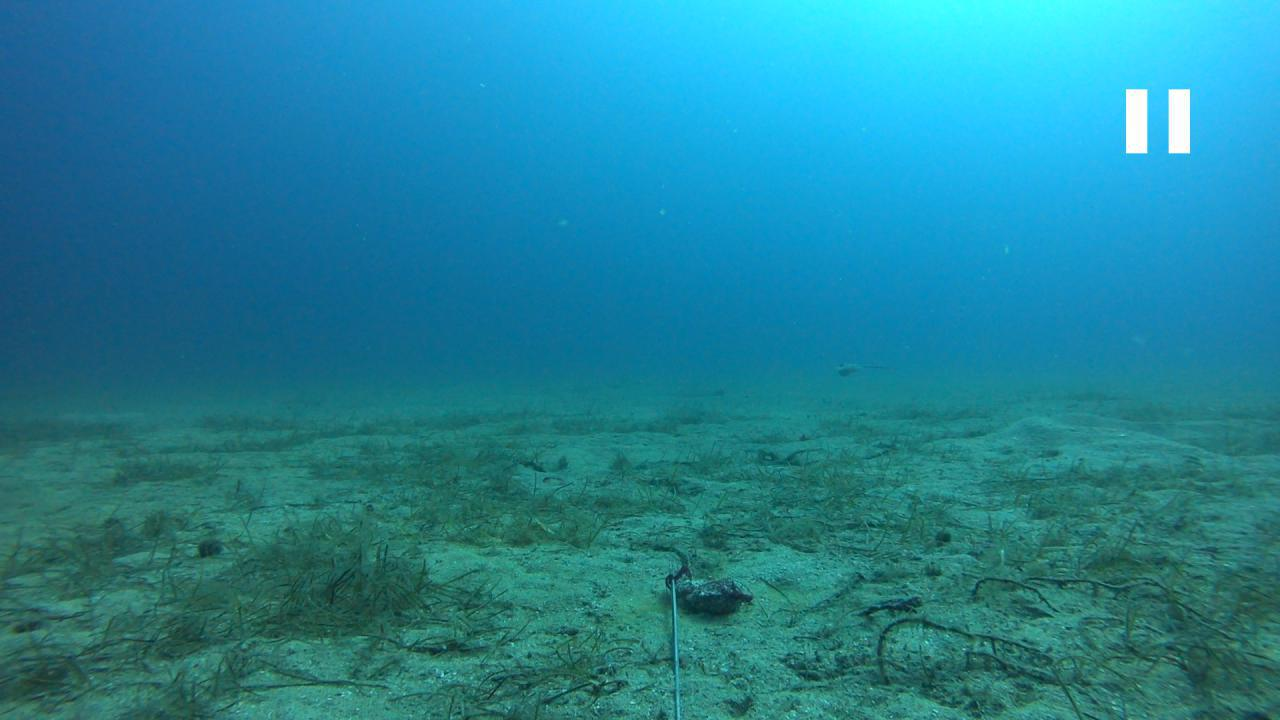dasyatis: (834, 359, 900, 375)
